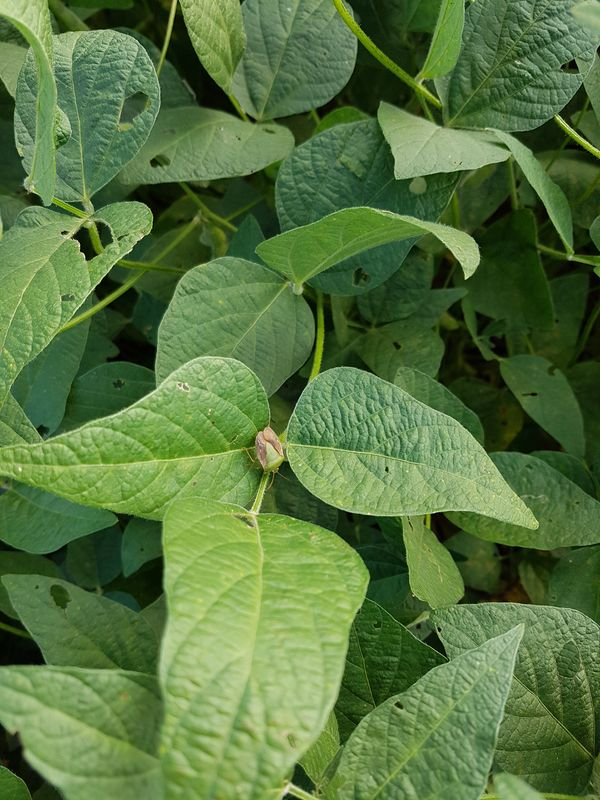Edessa_meditabunda: (232, 418, 304, 488)
